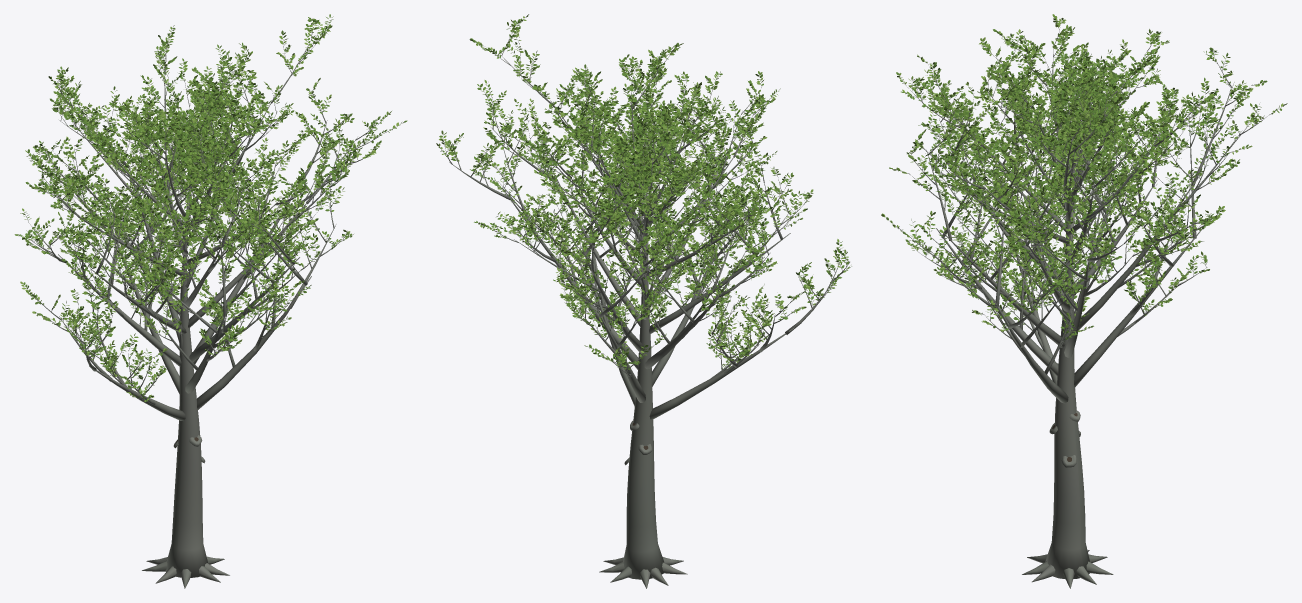
File: Beech_Mature_01_LowPruned_Healed_LOD0.fbx
The picture shows the model from 3 angles, left to right: view 1: azimuth 30°, elevation 25°; view 2: azimuth 150°, elevation 25°; view 3: azimuth 270°, elevation 25°; orthographic projection. The views are drawn at different scales.
Visible parts, largest first — view 1: Beech_Mature_01_LowPruned_Healed_LOD0; view 2: Beech_Mature_01_LowPruned_Healed_LOD0; view 3: Beech_Mature_01_LowPruned_Healed_LOD0.
Boxes of the visible parts, x1,y1,x2,y2 form: Beech_Mature_01_LowPruned_Healed_LOD0: [14, 14, 407, 588]; Beech_Mature_01_LowPruned_Healed_LOD0: [436, 14, 851, 588]; Beech_Mature_01_LowPruned_Healed_LOD0: [881, 14, 1287, 588].
Bounding box in the file's own units: 1794 × 2506 × 1648.
Materials: 6 (2 with a texture image).
